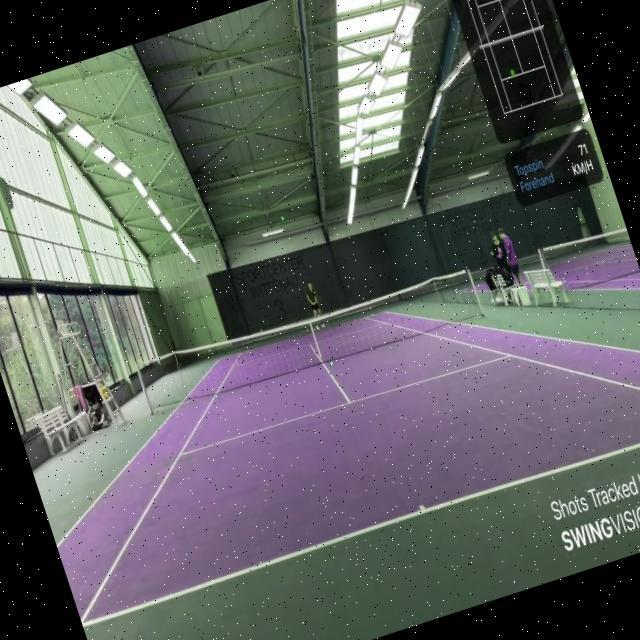court: (17, 226, 640, 629)
net: (134, 255, 485, 422)
